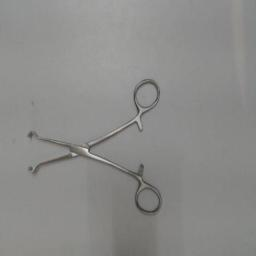Babcock Tissue Forceps: (23, 74, 163, 220)
